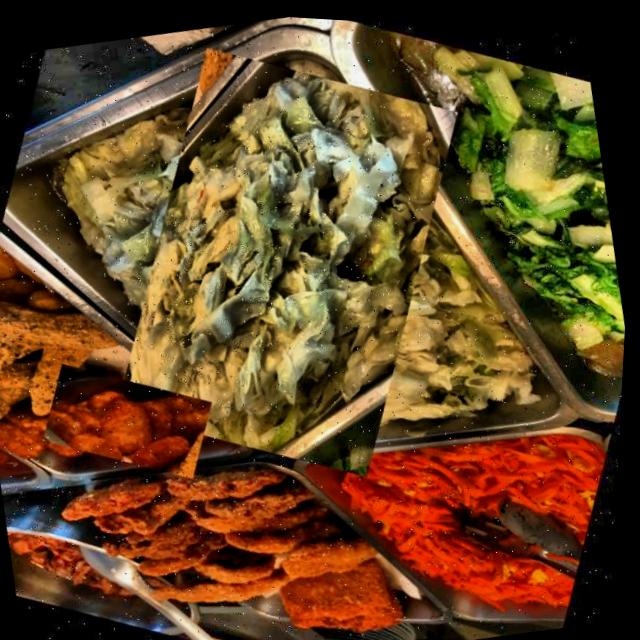Food: (37, 5, 541, 511), (357, 394, 625, 634), (31, 334, 232, 506)
